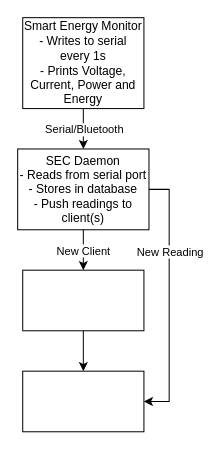
Some shapes in this 220 by 449 pixel diagram are drawn without their labels. Each missing label, with the box of its shape:
Client: - Wait for readings - Display on chart when received: (22, 370, 144, 432)
Readings retrieved from database and transmitted to client: (22, 269, 144, 331)
